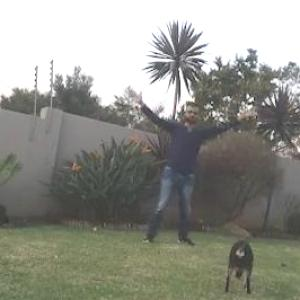takeoff: (142, 95, 267, 249)
